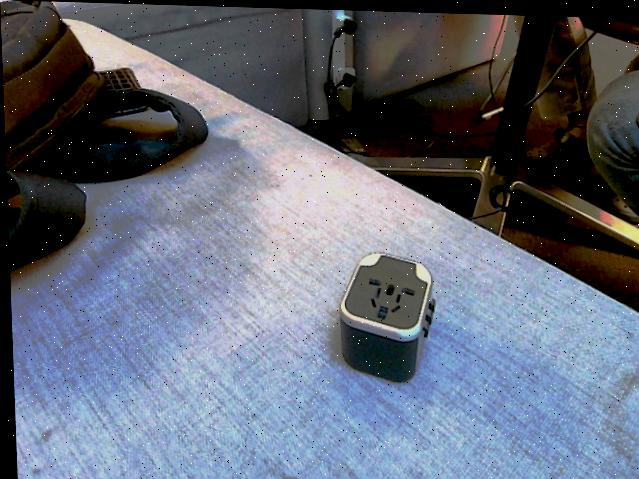adapter: (335, 248, 437, 381)
